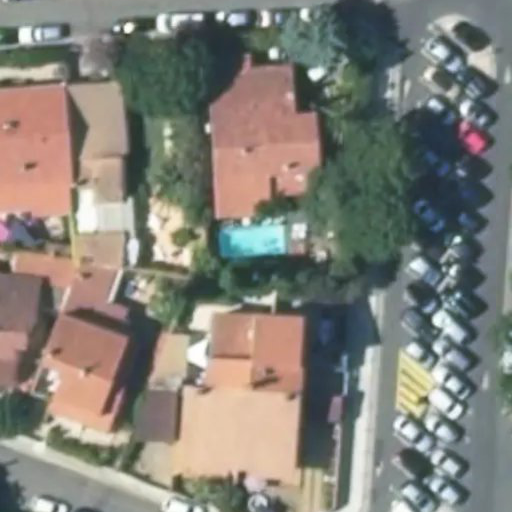pool: (223, 230, 288, 253)
